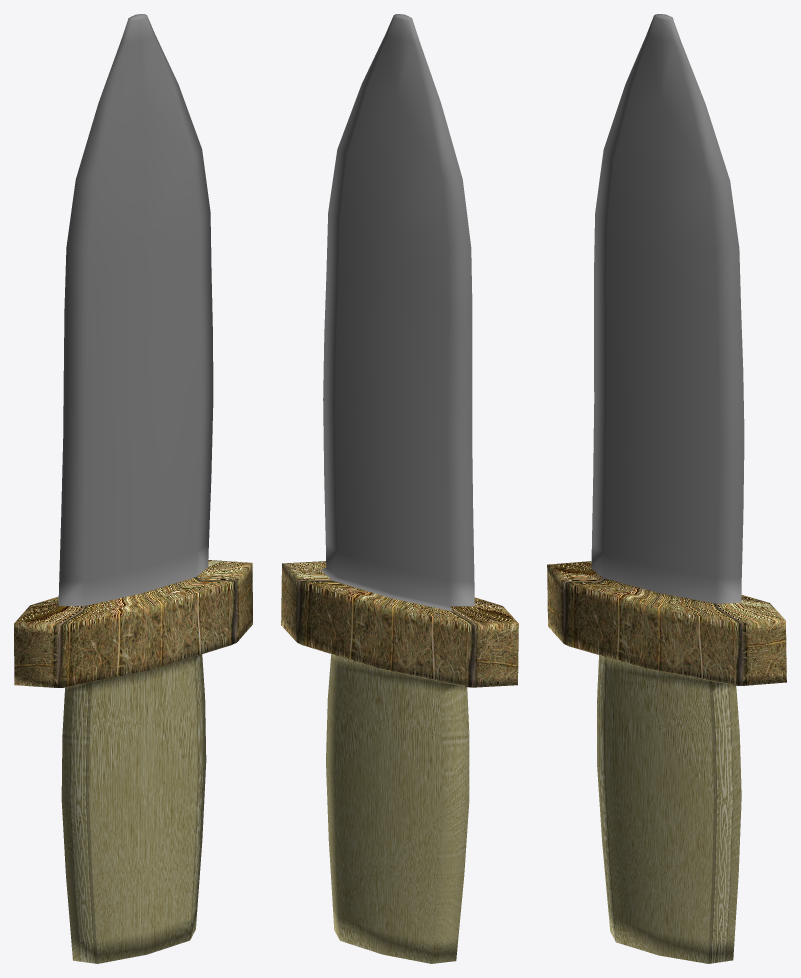
Rendered from GreatSword_drop.fbx.
The picture shows the model from 3 angles, left to right: view 1: azimuth 30°, elevation 25°; view 2: azimuth 150°, elevation 25°; view 3: azimuth 330°, elevation 25°; orthographic projection.
Visible parts, largest first — view 1: Box001; view 2: Box001; view 3: Box001.
Boxes of the visible parts, left/top/right/bottom form: Box001: left=14, top=14, right=252, bottom=963; Box001: left=281, top=14, right=518, bottom=963; Box001: left=547, top=14, right=786, bottom=963.
Size of the model in its own units: 33.64 by 9.13 by 126.
3 materials, 3 textured.
